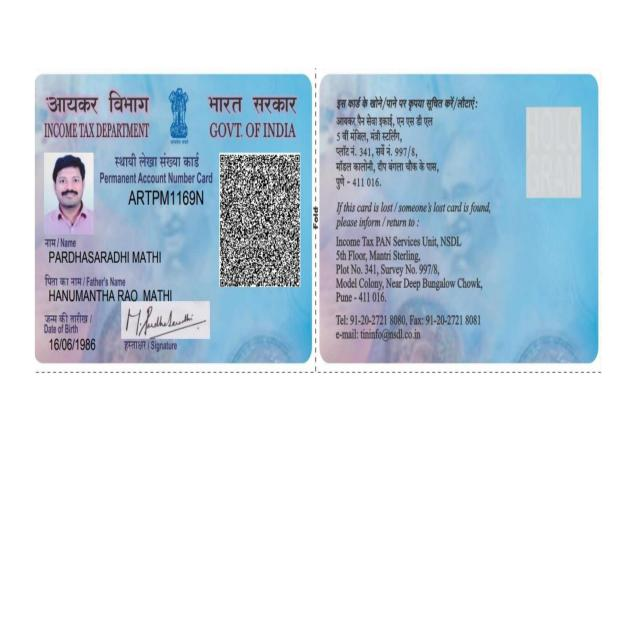pan_card: (35, 77, 310, 360), (323, 80, 594, 359)
